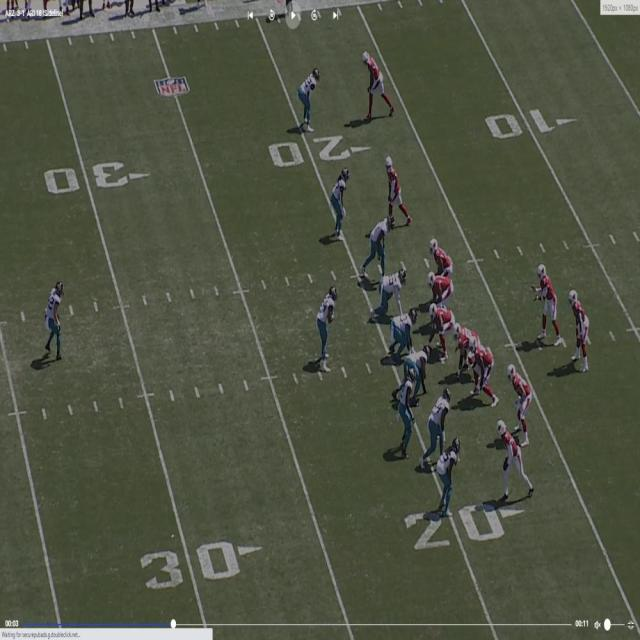center: (425, 299, 448, 354)
db: (398, 372, 416, 455), (440, 441, 462, 508), (299, 69, 320, 134), (46, 281, 63, 347), (333, 168, 349, 233)
lb: (426, 389, 451, 455), (364, 218, 395, 268), (318, 286, 336, 372)
qb: (536, 267, 560, 344)
skill: (497, 423, 527, 497), (363, 49, 393, 118), (568, 287, 589, 373), (508, 364, 530, 437), (382, 156, 406, 221)
